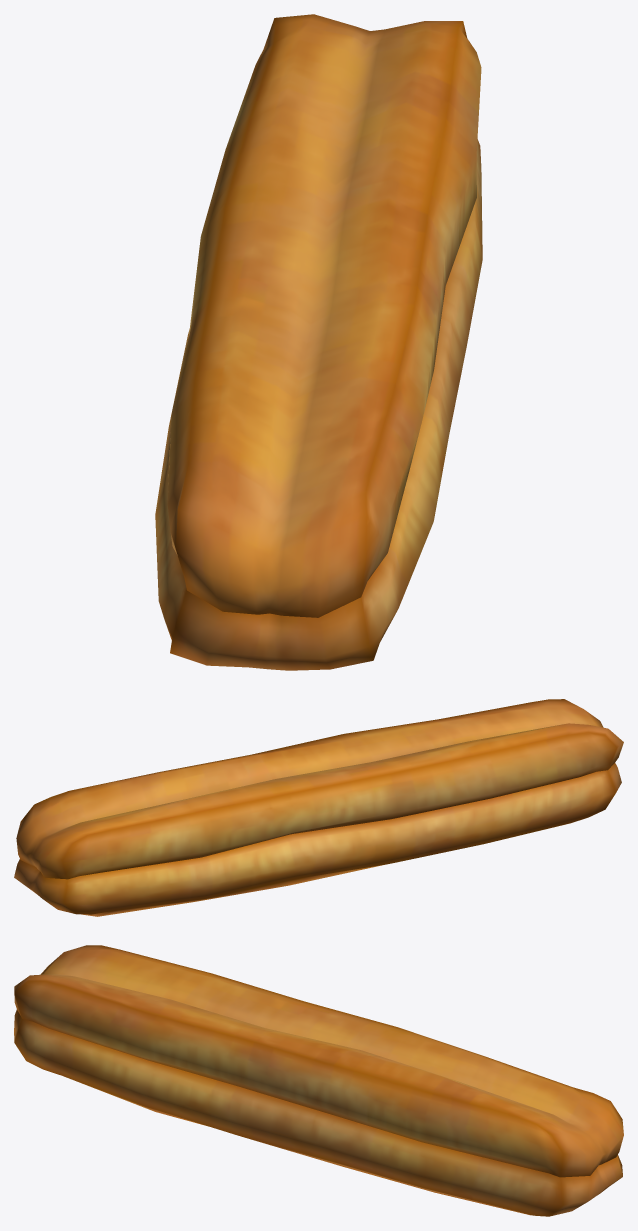
File: BFFriedDoughStick.glb
3 views of the same model, one above another, from view 1: azimuth 30°, elevation 25°; view 2: azimuth 150°, elevation 25°; view 3: azimuth 270°, elevation 25° (orthographic). The views are drawn at different scales.
Visible parts, largest first — view 1: youTiao; view 2: youTiao; view 3: youTiao.
Boxes of the visible parts, x1,y1,x2,y2 form: youTiao: (155,14,482,670); youTiao: (14,699,623,916); youTiao: (14,945,623,1216).
Size of the model in its own units: 2.11 by 0.5667 by 2.74.
1 material, 1 textured.
